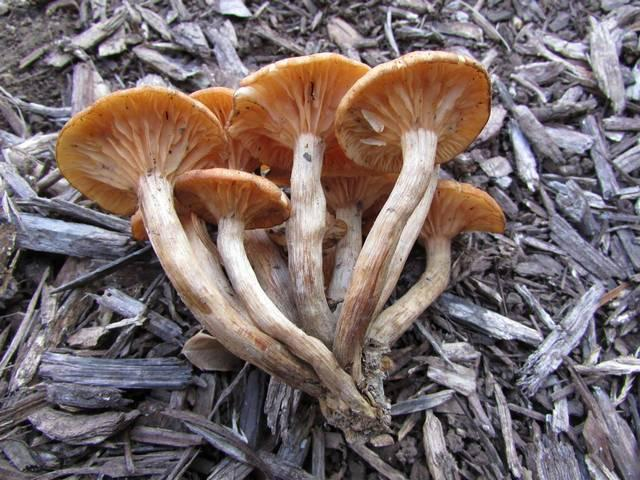edible_mushroom: (54, 47, 506, 430), (328, 48, 502, 379)
